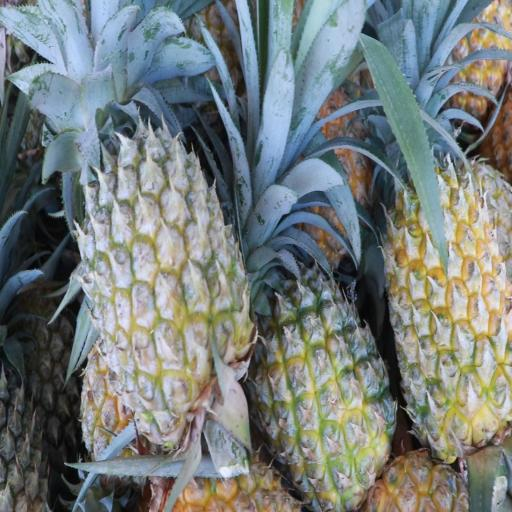------------------------------: (88, 134, 247, 437)
Pineapple - v8 v1: (389, 167, 512, 449), (258, 275, 393, 502)
